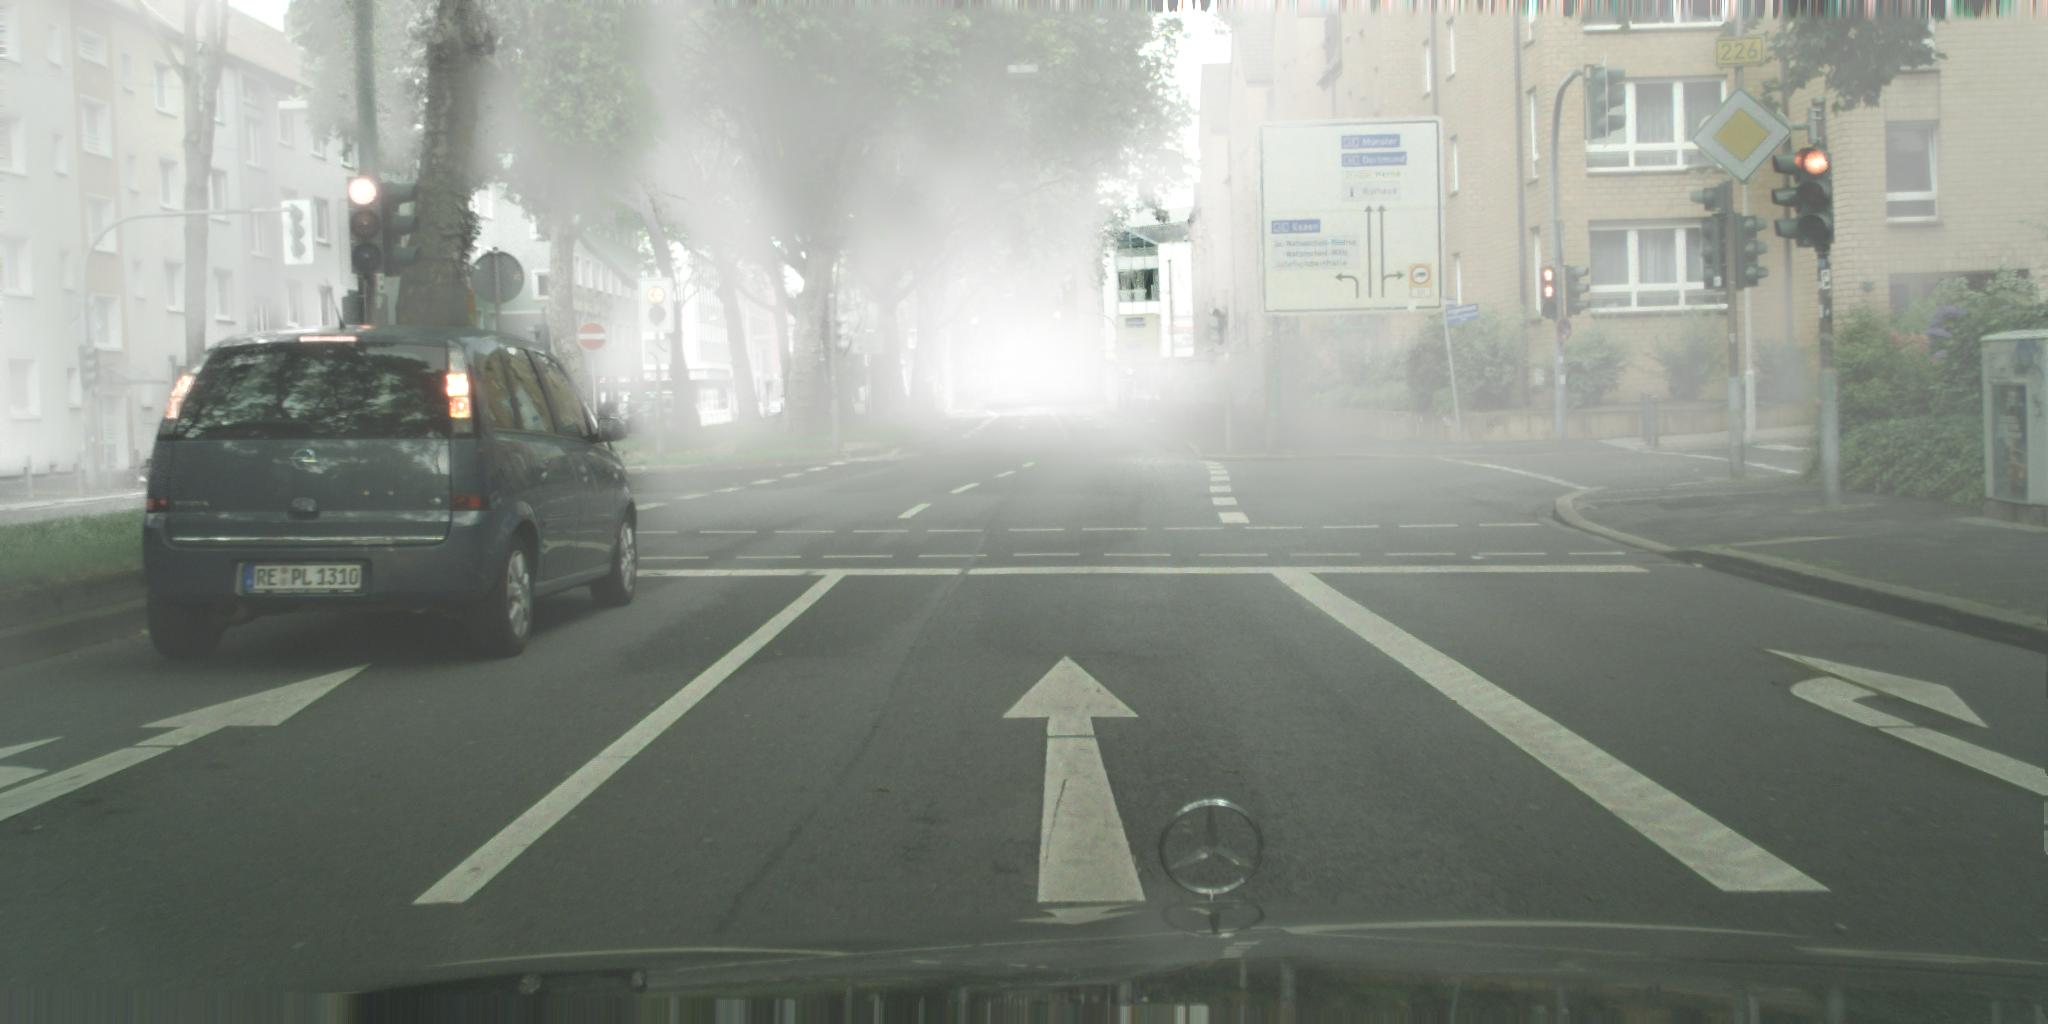car: (144, 280, 639, 661), (588, 401, 647, 447), (623, 402, 661, 441), (650, 396, 686, 431), (765, 401, 782, 418)
